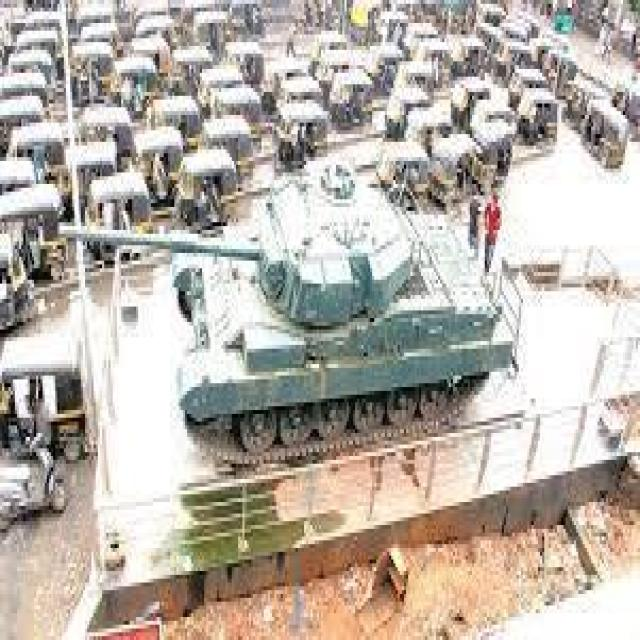Tanks: (167, 163, 513, 439)
